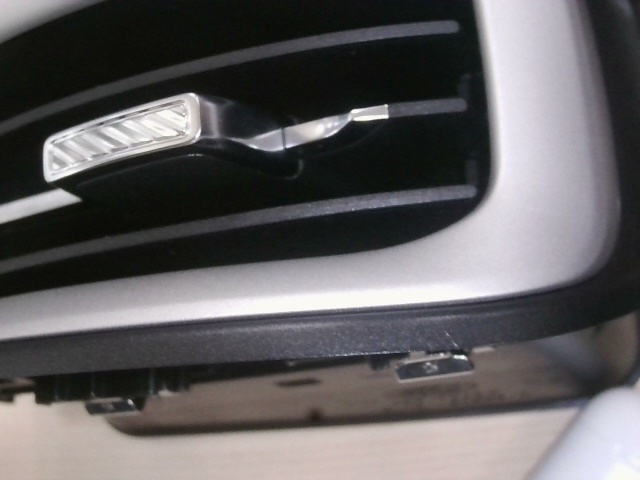NG: (433, 321, 468, 353)
